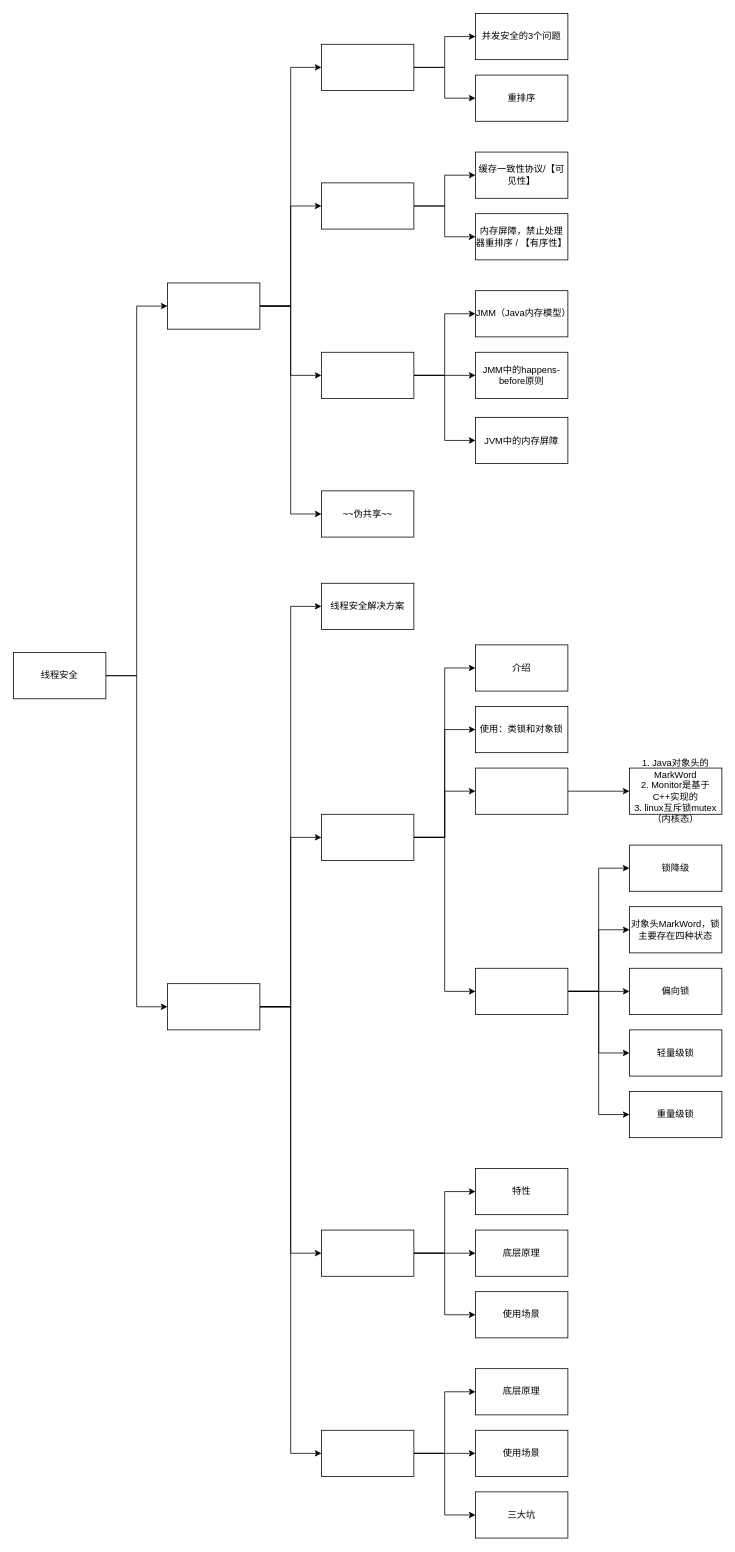
The diagram is 735 pixels wide and 1552 high, and some of its shapes have lost their labels. Here are the shapes that lost their labels. From the top down, the centre of each, then its label:
point 367,67: CPU多级缓存及并发安全
point 367,205: 硬件层解决并发安全
point 213,305: 线程安全问题
point 367,375: Java解决并发安全
point 521,790: ~~底层原理~~
point 367,837: Synchronized
point 213,1006: 线程安全解决
point 521,991: 优化
point 367,1252: Volatile
point 367,1453: ThreadLocal
